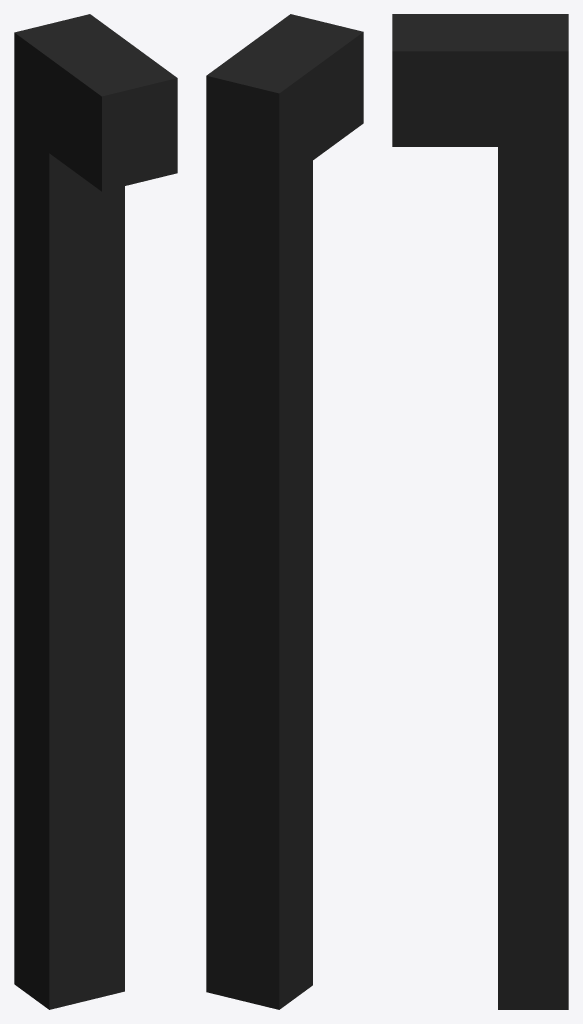
Rendered from street-lamp.obj.
The picture shows the model from 3 angles, left to right: view 1: azimuth 30°, elevation 25°; view 2: azimuth 150°, elevation 25°; view 3: azimuth 270°, elevation 25°; orthographic projection. The views are drawn at different scales.
Bounding box in the file's own units: 0.5 × 6 × 1.
1 material, 1 textured.
